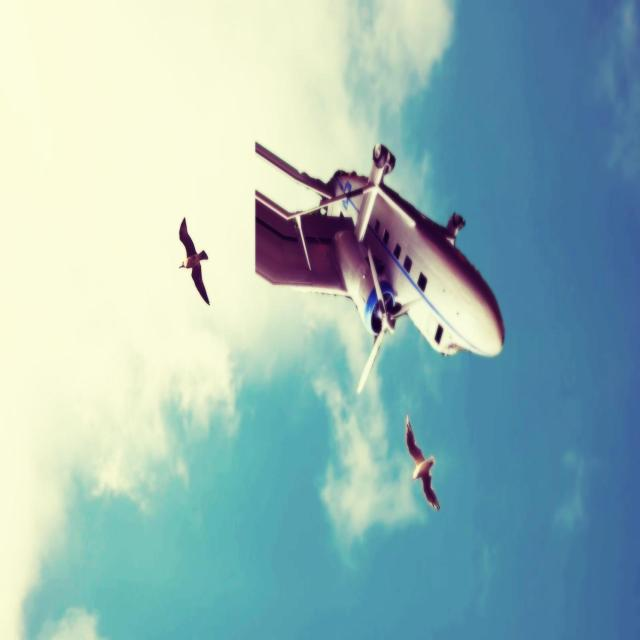airplane: (254, 140, 505, 393)
